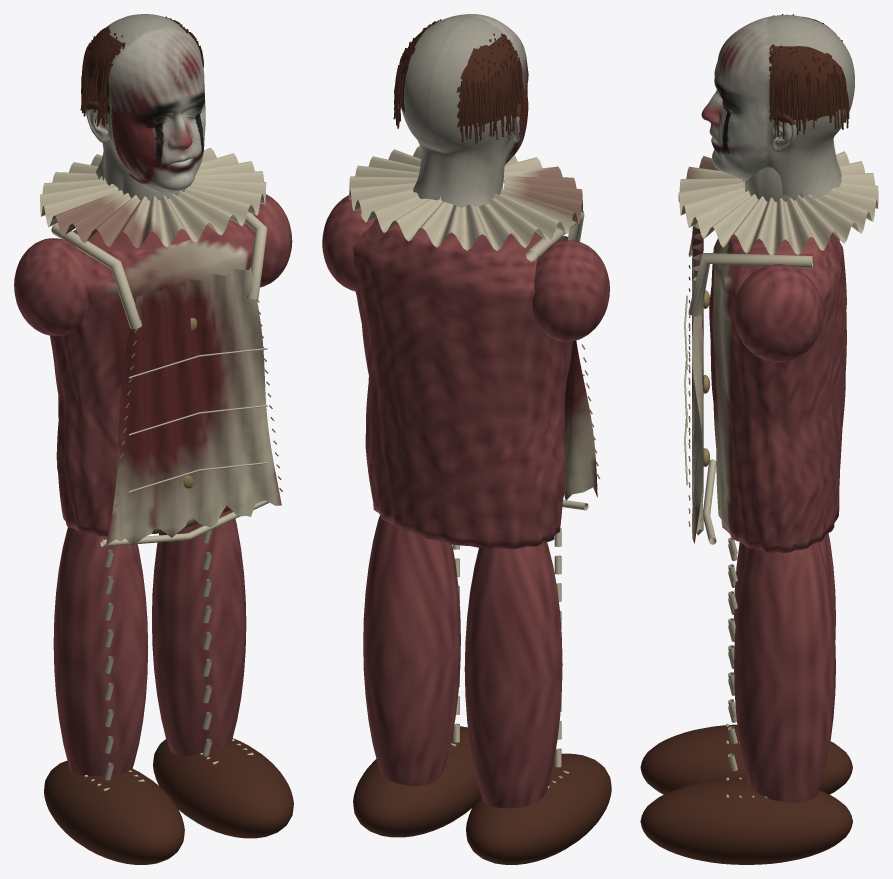
File: kitchen-clown-v3.glb
The picture shows the model from 3 angles, left to right: view 1: azimuth 30°, elevation 25°; view 2: azimuth 150°, elevation 25°; view 3: azimuth 270°, elevation 25°; orthographic projection. The views are drawn at different scales.
Visible parts, largest first — view 1: Body, Head; view 2: Body, Head; view 3: Body, Head.
Part boxes in pixels (x1,y1,x2,y2): Body: (14,147,293,864); Head: (80,14,205,192); Body: (322,145,611,864); Head: (393,14,528,207); Body: (640,151,878,864); Head: (701,14,854,198).
Bounding box in the file's own units: 0.73 × 2.1 × 0.56.
